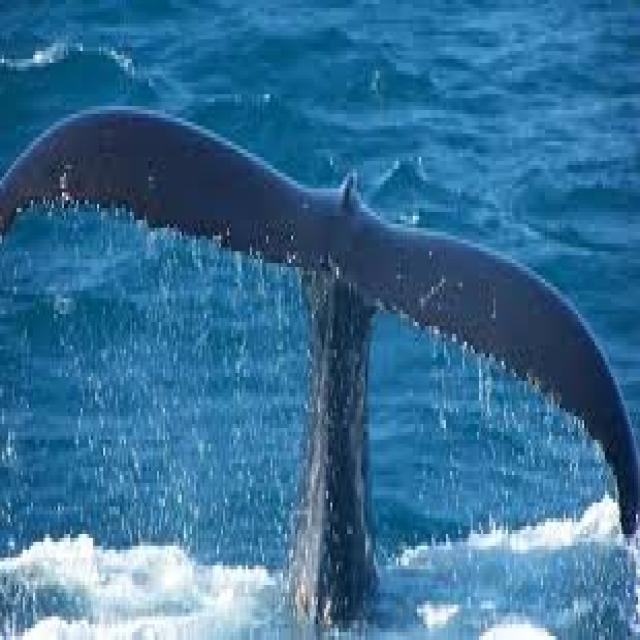whale: (0, 106, 638, 624)
